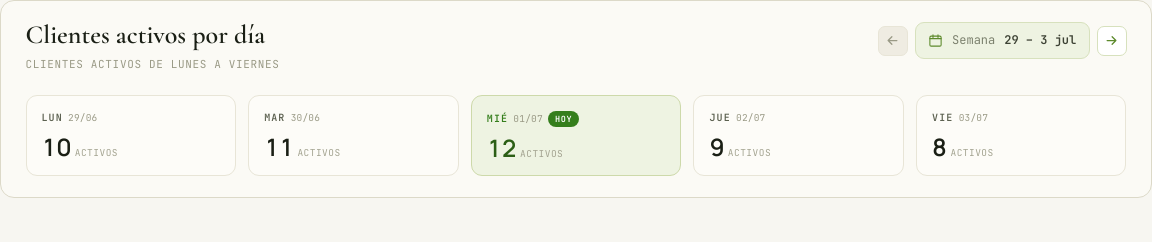
Scenario: WeeklyCountsCard › with isAdmin › pages to the next week by absolute week start, showing its counts, range, and caveat
Click the button named "Semana siguiente": point(1112, 41) [1096,26,1126,56]
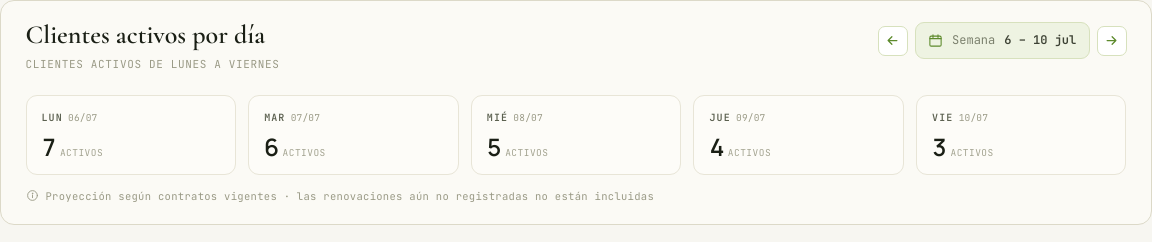
Result: the text "6 – 10 jul" is shown at [1004,32,1076,49]
Result: the text "7" is shown at [42,136,56,158]
Result: the text "Proyección según contratos vigentes" is shown at [46,189,654,203]
